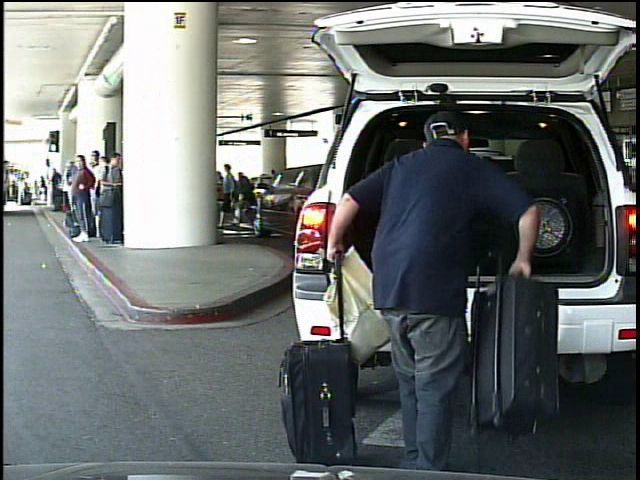person: (322, 105, 538, 466), (221, 163, 244, 235), (236, 165, 259, 232), (37, 174, 49, 202), (18, 176, 28, 207)
